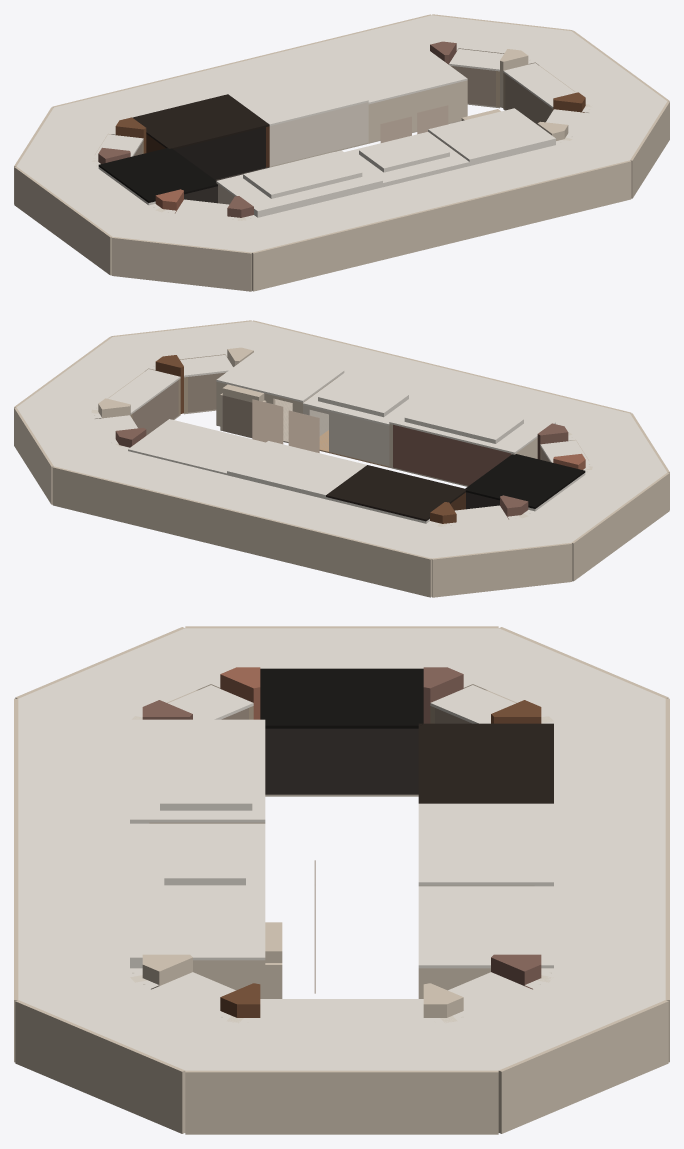
3 renders of one model, top to bottom at view 1: azimuth 30°, elevation 25°; view 2: azimuth 150°, elevation 25°; view 3: azimuth 270°, elevation 25°, orthographic. The views are drawn at different scales.
Visible parts, largest first — view 1: dinding luar, dinding luar.011, plafon aula, dinding luar.002, plafon aula.010, plafon aula.004, plafon.020, plafon.019, plafon.018, plafon aula.006, dinding luar.010, plafon aula.008 (+35 smaller); view 2: dinding luar.008, dinding luar.009, dinding luar.006, plafon aula.010, plafon aula.004, plafon aula, plafon aula.008, plafon aula.006, plafon.020, plafon.019, dinding belakang.010, plafon.018 (+34 smaller); view 3: dinding luar.004, plafon aula, plafon aula.004, plafon aula.008, plafon aula.006, plafon.019, plafon aula.010, dinding luar.003, dinding luar.005, plafon.020, plafon.018, plafon aula.002 (+30 smaller).
Part boxes in pixels (x1,y1,x2,y2): dinding luar: [252, 212, 418, 291]; dinding luar.011: [111, 236, 251, 291]; plafon aula: [242, 187, 416, 252]; dinding luar.002: [504, 160, 631, 229]; plafon aula.010: [17, 162, 156, 236]; plafon aula.004: [528, 31, 666, 105]; plafon.020: [132, 94, 269, 149]; plafon.019: [228, 70, 368, 125]; plafon.018: [330, 48, 467, 104]; plafon aula.006: [293, 15, 439, 71]; dinding luar.010: [14, 166, 111, 275]; plafon aula.008: [54, 73, 223, 126]; dinding luar.008: [290, 524, 431, 597]; dinding luar.009: [432, 542, 572, 597]; dinding luar.006: [52, 466, 192, 539]; plafon aula.010: [527, 468, 666, 542]; plafon aula.004: [17, 337, 155, 411]; plafon aula: [438, 373, 629, 432]; plafon aula.008: [292, 499, 441, 558]; plafon aula.006: [54, 447, 226, 500]; plafon.020: [326, 465, 466, 521]; plafon.019: [227, 441, 366, 496]; dinding belakang.010: [393, 424, 511, 485]; plafon.018: [128, 419, 265, 474]; dinding luar.004: [185, 1070, 498, 1134]; plafon aula: [18, 699, 129, 830]; plafon aula.004: [185, 1023, 498, 1070]; plafon aula.008: [554, 699, 665, 810]; plafon aula.006: [554, 889, 665, 999]; plafon.019: [418, 803, 553, 885]; plafon aula.010: [186, 628, 497, 670]; dinding luar.003: [15, 1000, 185, 1133]; dinding luar.005: [498, 1000, 668, 1133]; plafon.020: [418, 723, 553, 803]; plafon.018: [418, 886, 553, 968]; plafon aula.002: [18, 899, 129, 999].
Bounding box in the file's own units: 49.16 × 4.3 × 30.56.
